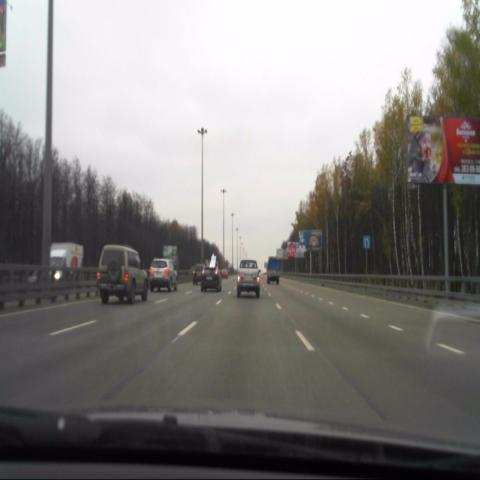5_15_5: (362, 235, 371, 251)
